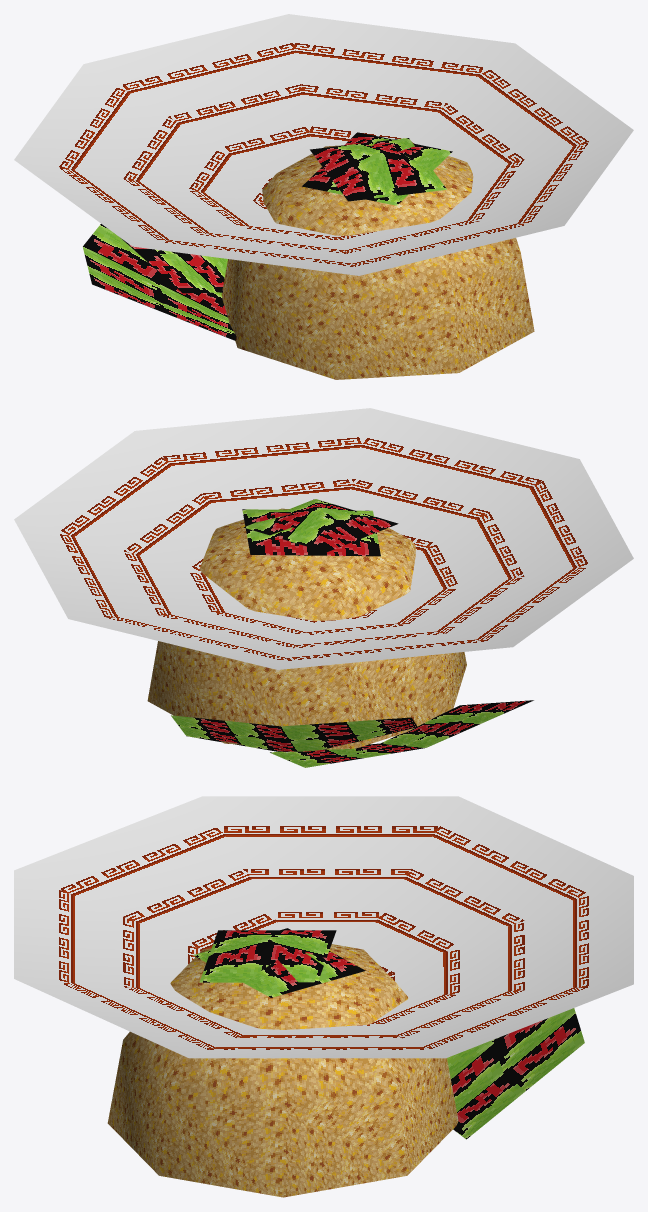
Rendered from chahan.gltf.
The picture shows the model from 3 angles, top to bottom: view 1: azimuth 30°, elevation 25°; view 2: azimuth 150°, elevation 25°; view 3: azimuth 270°, elevation 25°; orthographic projection. The views are drawn at different scales.
Parts seen in each view (by area): view 1: chahan; view 2: chahan; view 3: chahan.
Part boxes in pixels (bbox=[...]): chahan: bbox=[14, 14, 633, 379]; chahan: bbox=[14, 408, 633, 767]; chahan: bbox=[14, 796, 633, 1197].
Bounding box in the file's own units: 0.9194 × 0.3164 × 0.9194.
Materials: 3 (3 with a texture image).
